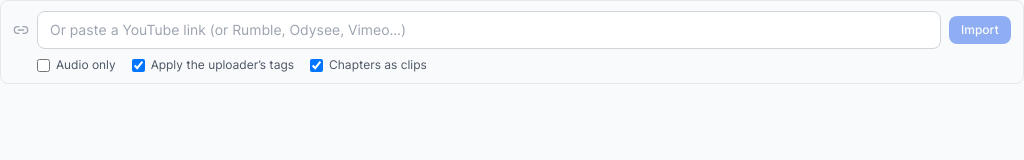
Scenario: UrlImport › shows why a link was refused and keeps it for correcting
Step 1. Type "https://127.0.0.1/video" into the field named "Link to import" → (489, 30), box [37,11,941,49]
Then press Enter
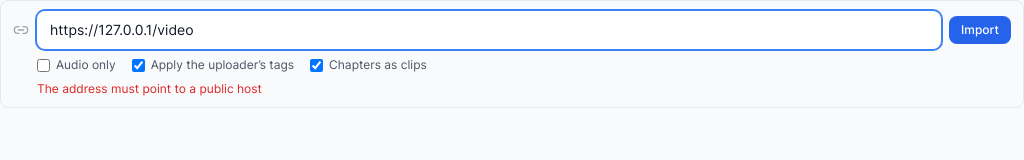
Check: the message reads "The address must point to a public host", box [37,81,262,96]
